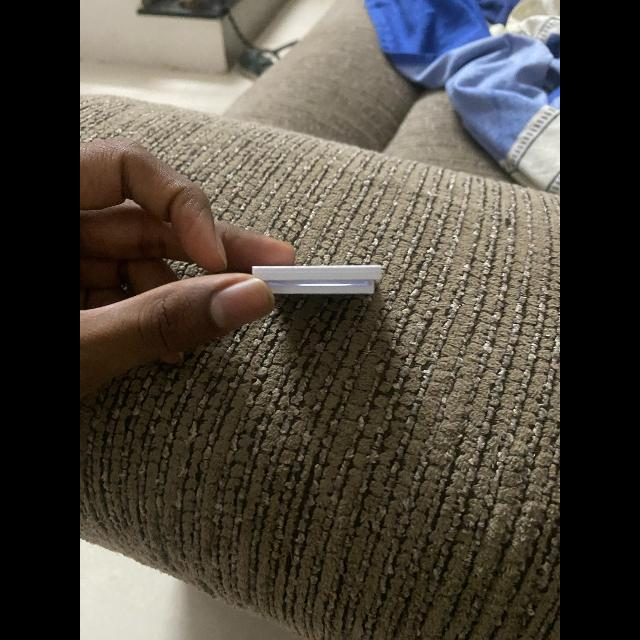RASPBERY PI CAM ENCLOSURE: (252, 264, 382, 296)
